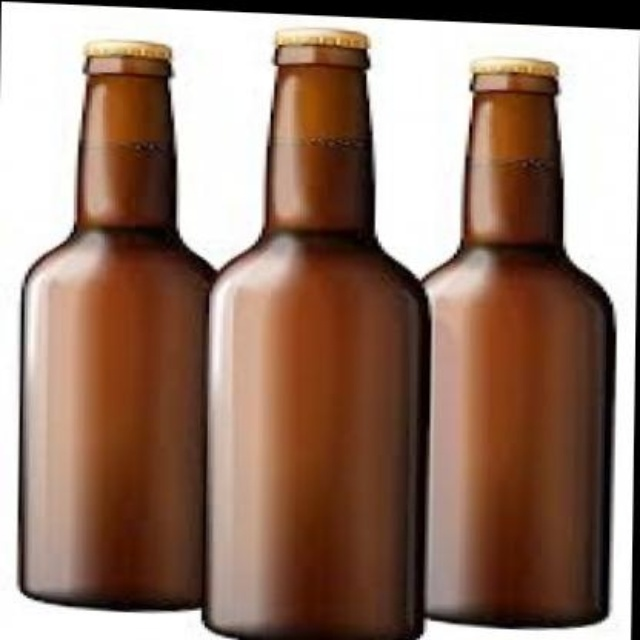trash: (205, 29, 426, 638), (20, 42, 212, 608), (425, 58, 612, 625)
